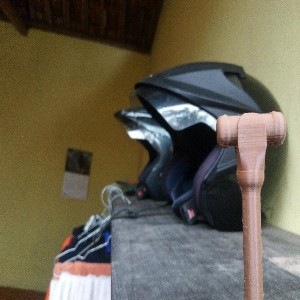palu: (216, 110, 287, 300)
